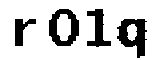0: (45, 5, 82, 51)
1: (84, 6, 112, 51)
q: (116, 14, 149, 60)
r: (11, 17, 40, 50)
